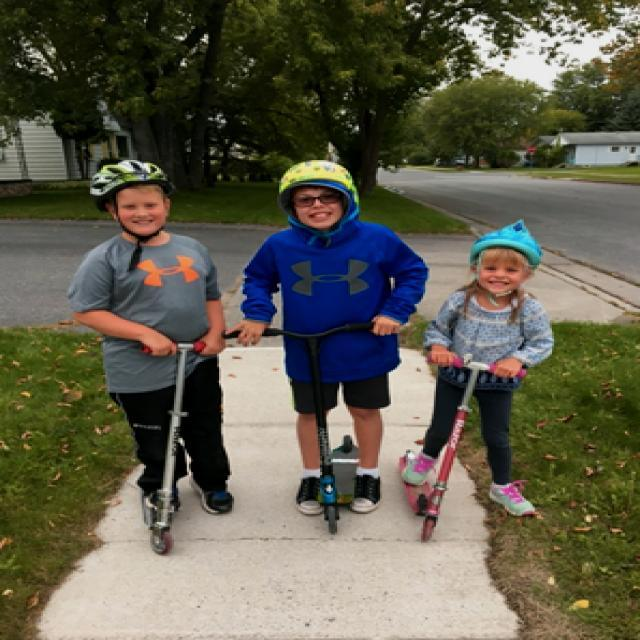Helmet: (260, 155, 384, 247), (75, 152, 189, 250), (464, 208, 544, 302)
